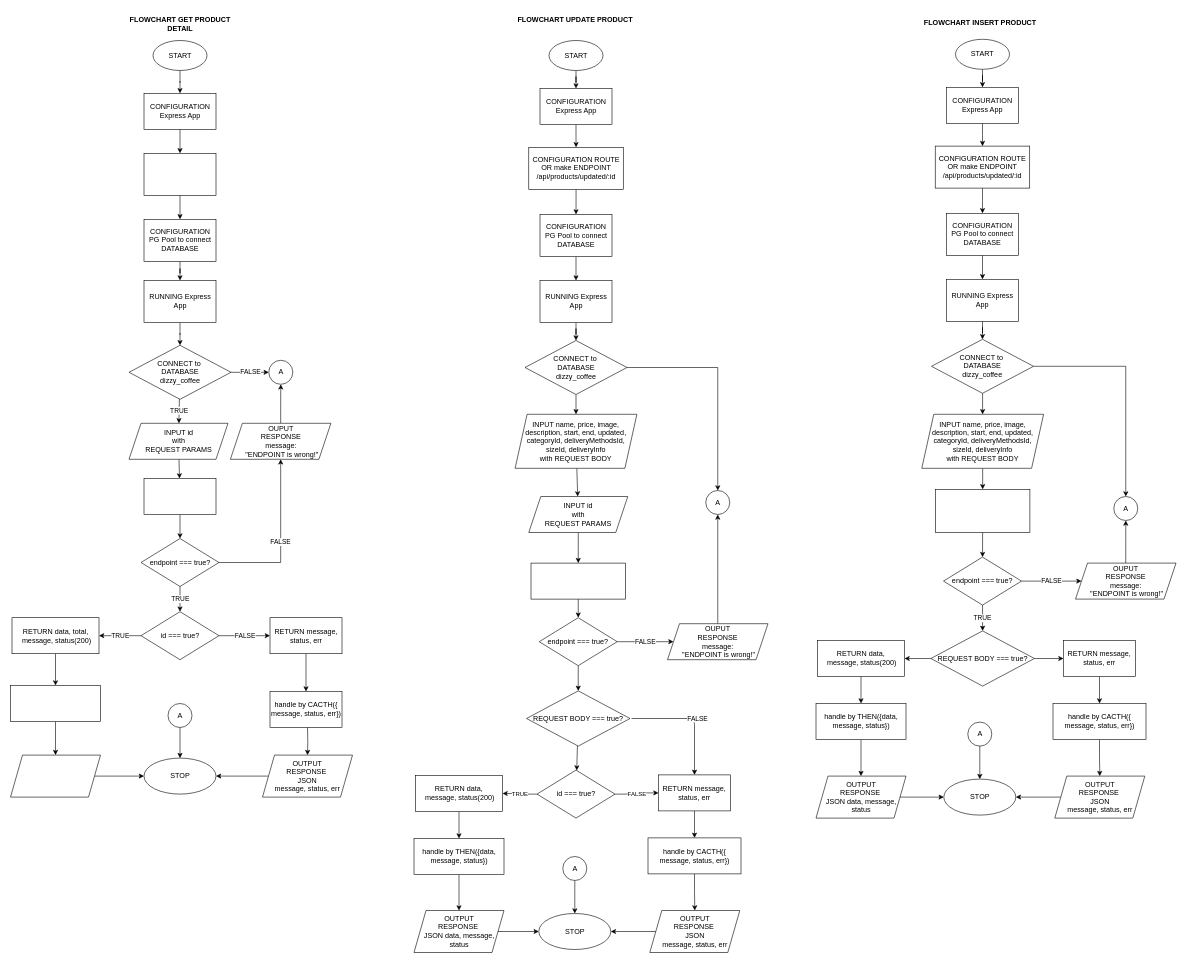
Image size: 1187x963. Some labels were removed from this diagram. Each missing label, with the centre of its shape:
CONFIGURATION ROUTE OR make ENDPOINT /api/products/:id: the point at 179,174
GET api/product/:id: the point at 179,496
handle by THEN({data, total, message, status}): the point at 55,703
OUTPUT RESPONSE JSON data, message, status, total: the point at 55,775
PATCH api/product/insert: the point at 982,510
PATCH api/product/updated/:id: the point at 578,580
